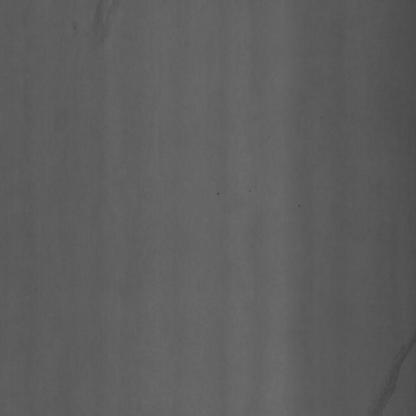water_spot: (368, 326, 416, 413), (80, 1, 123, 72)
